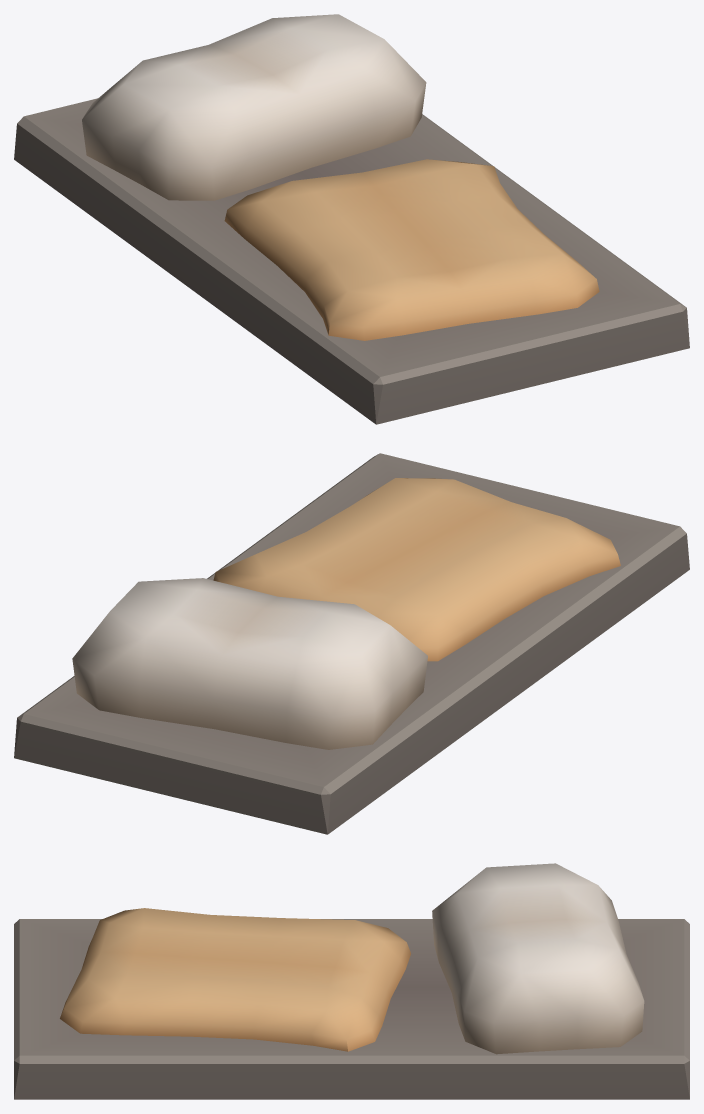
File: bed_floor.gltf
3 views of the same model, one above another, from view 1: azimuth 30°, elevation 25°; view 2: azimuth 150°, elevation 25°; view 3: azimuth 270°, elevation 25° (orthographic). The views are drawn at different scales.
Visible parts, largest first — view 1: bed_floor; view 2: bed_floor; view 3: bed_floor.
Part boxes in pixels (<box>): bed_floor: <box>14,14,689,424</box>; bed_floor: <box>14,453,689,834</box>; bed_floor: <box>14,863,689,1099</box>.
Bounding box in the file's own units: 1.5 × 0.5626 × 3.
Materials: 1 (1 with a texture image).
